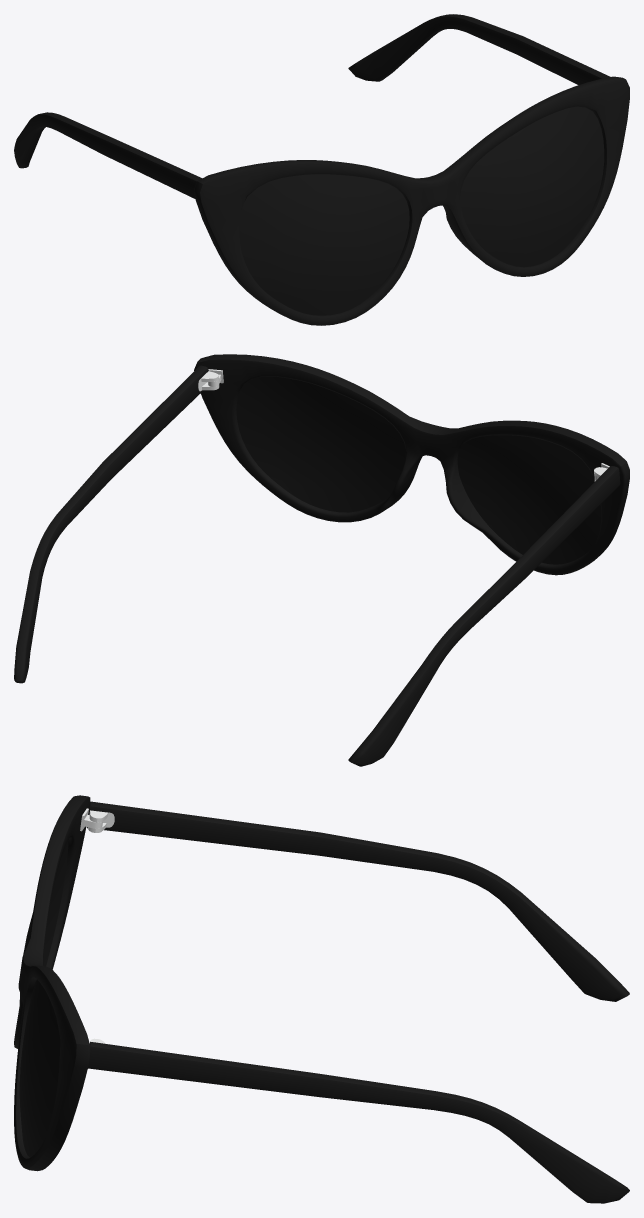
Rendered from SM_Glasses_02.FBX.
The picture shows the model from 3 angles, top to bottom: view 1: azimuth 30°, elevation 25°; view 2: azimuth 150°, elevation 25°; view 3: azimuth 270°, elevation 25°; orthographic projection. The views are drawn at different scales.
Visible parts, largest first — view 1: SM_Glasses_02; view 2: SM_Glasses_02; view 3: SM_Glasses_02.
Boxes of the visible parts, x1,y1,x2,y2 form: SM_Glasses_02: [14, 14, 629, 325]; SM_Glasses_02: [14, 354, 629, 766]; SM_Glasses_02: [14, 795, 629, 1203].
Bounding box in the file's own units: 14.3 × 4.94 × 13.87.
